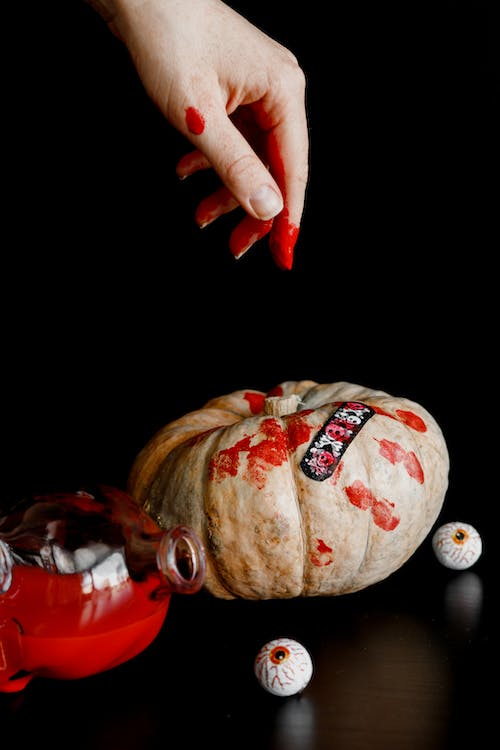blood: (201, 382, 428, 570), (0, 567, 175, 693), (173, 105, 303, 273)
